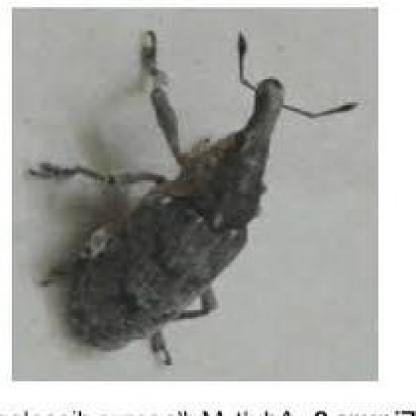ash weevil: (27, 47, 287, 349)
